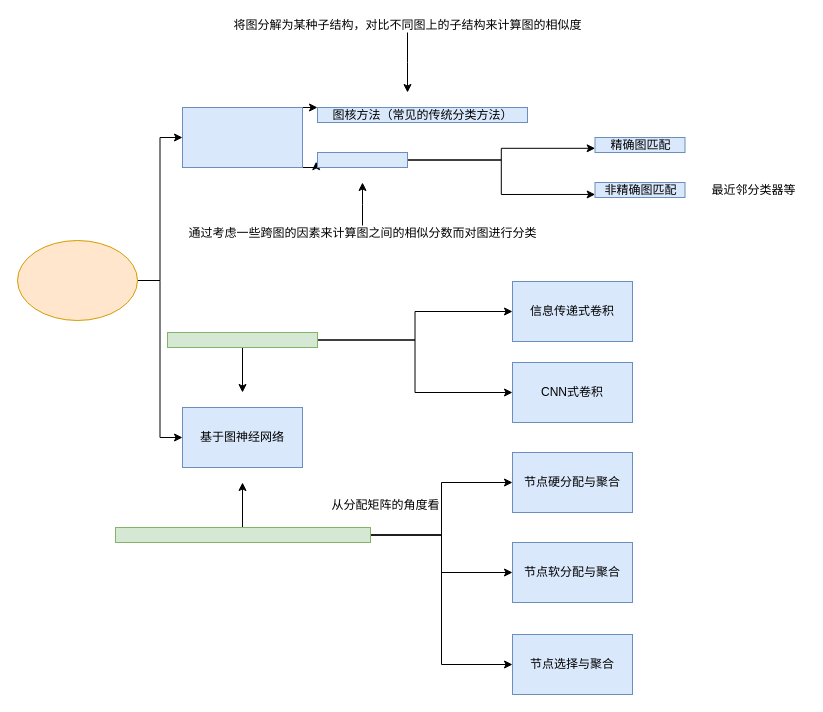
Image size: 823x712. Some labels were removed from this diagram. Each missing label, with the box of its shape:
1.卷积算子进行特征提取: (166, 332, 318, 348)
2.池化算子进行特征汇总得到整张图的表示: (114, 526, 370, 542)
图分类: (16, 240, 138, 320)
图匹配方法: (316, 152, 408, 168)
基于相似度: (182, 106, 302, 168)
